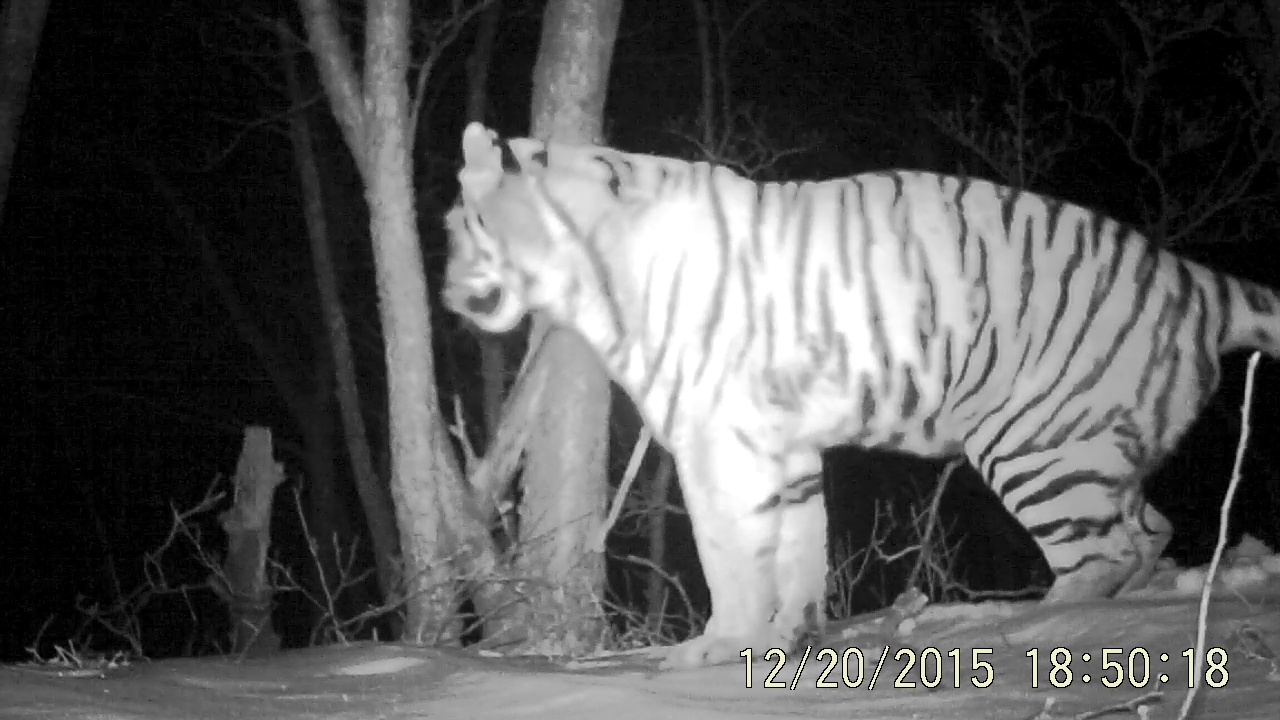Tiger: (410, 60, 1280, 648)
